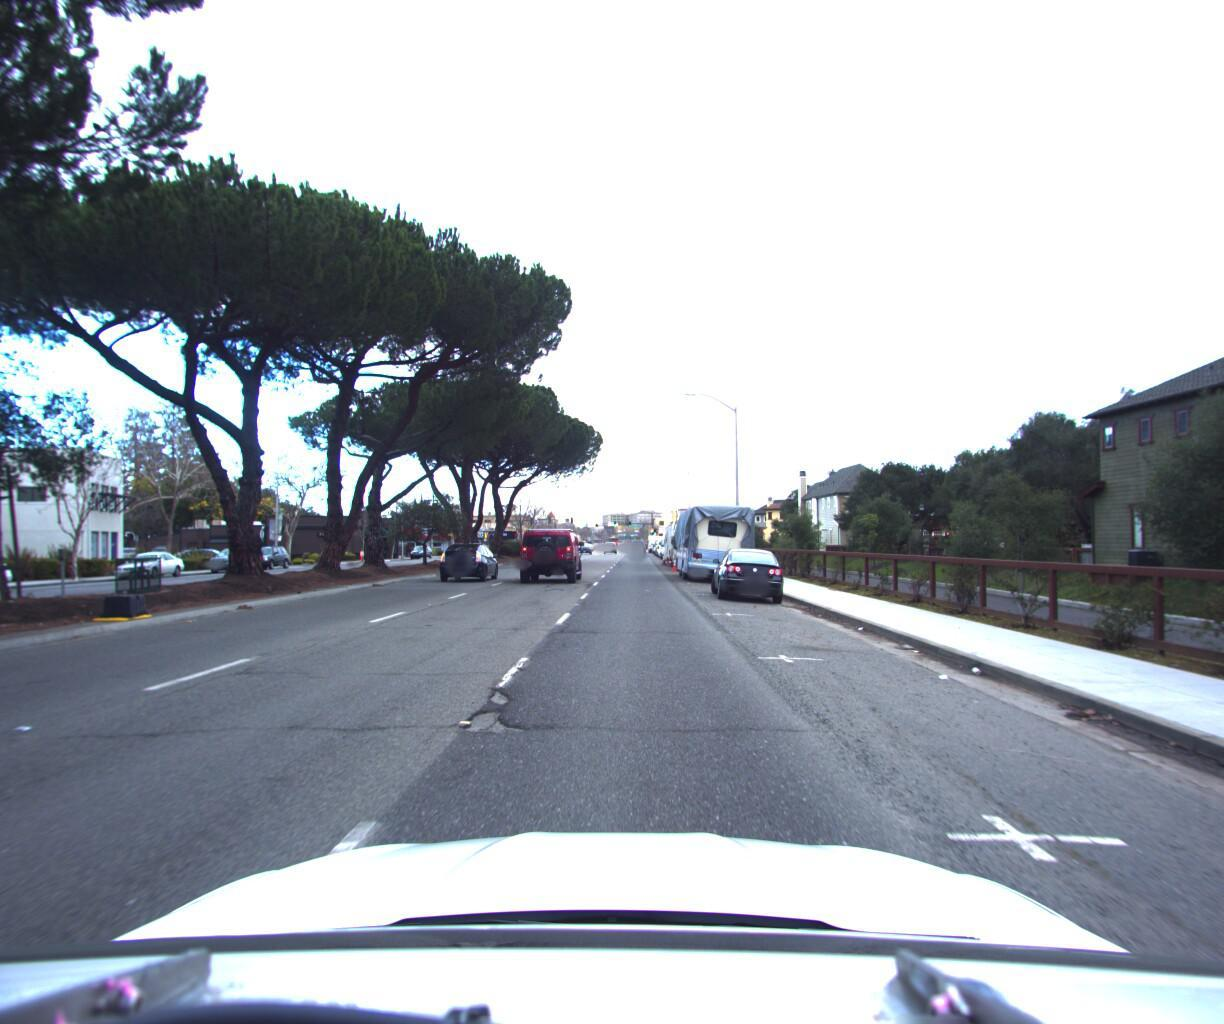car: (713, 539, 784, 600), (518, 523, 584, 579), (439, 539, 498, 582), (113, 547, 191, 578), (208, 541, 264, 570), (242, 539, 293, 566), (0, 550, 25, 598)
other_vehicle: (675, 498, 746, 574), (664, 513, 713, 562)
